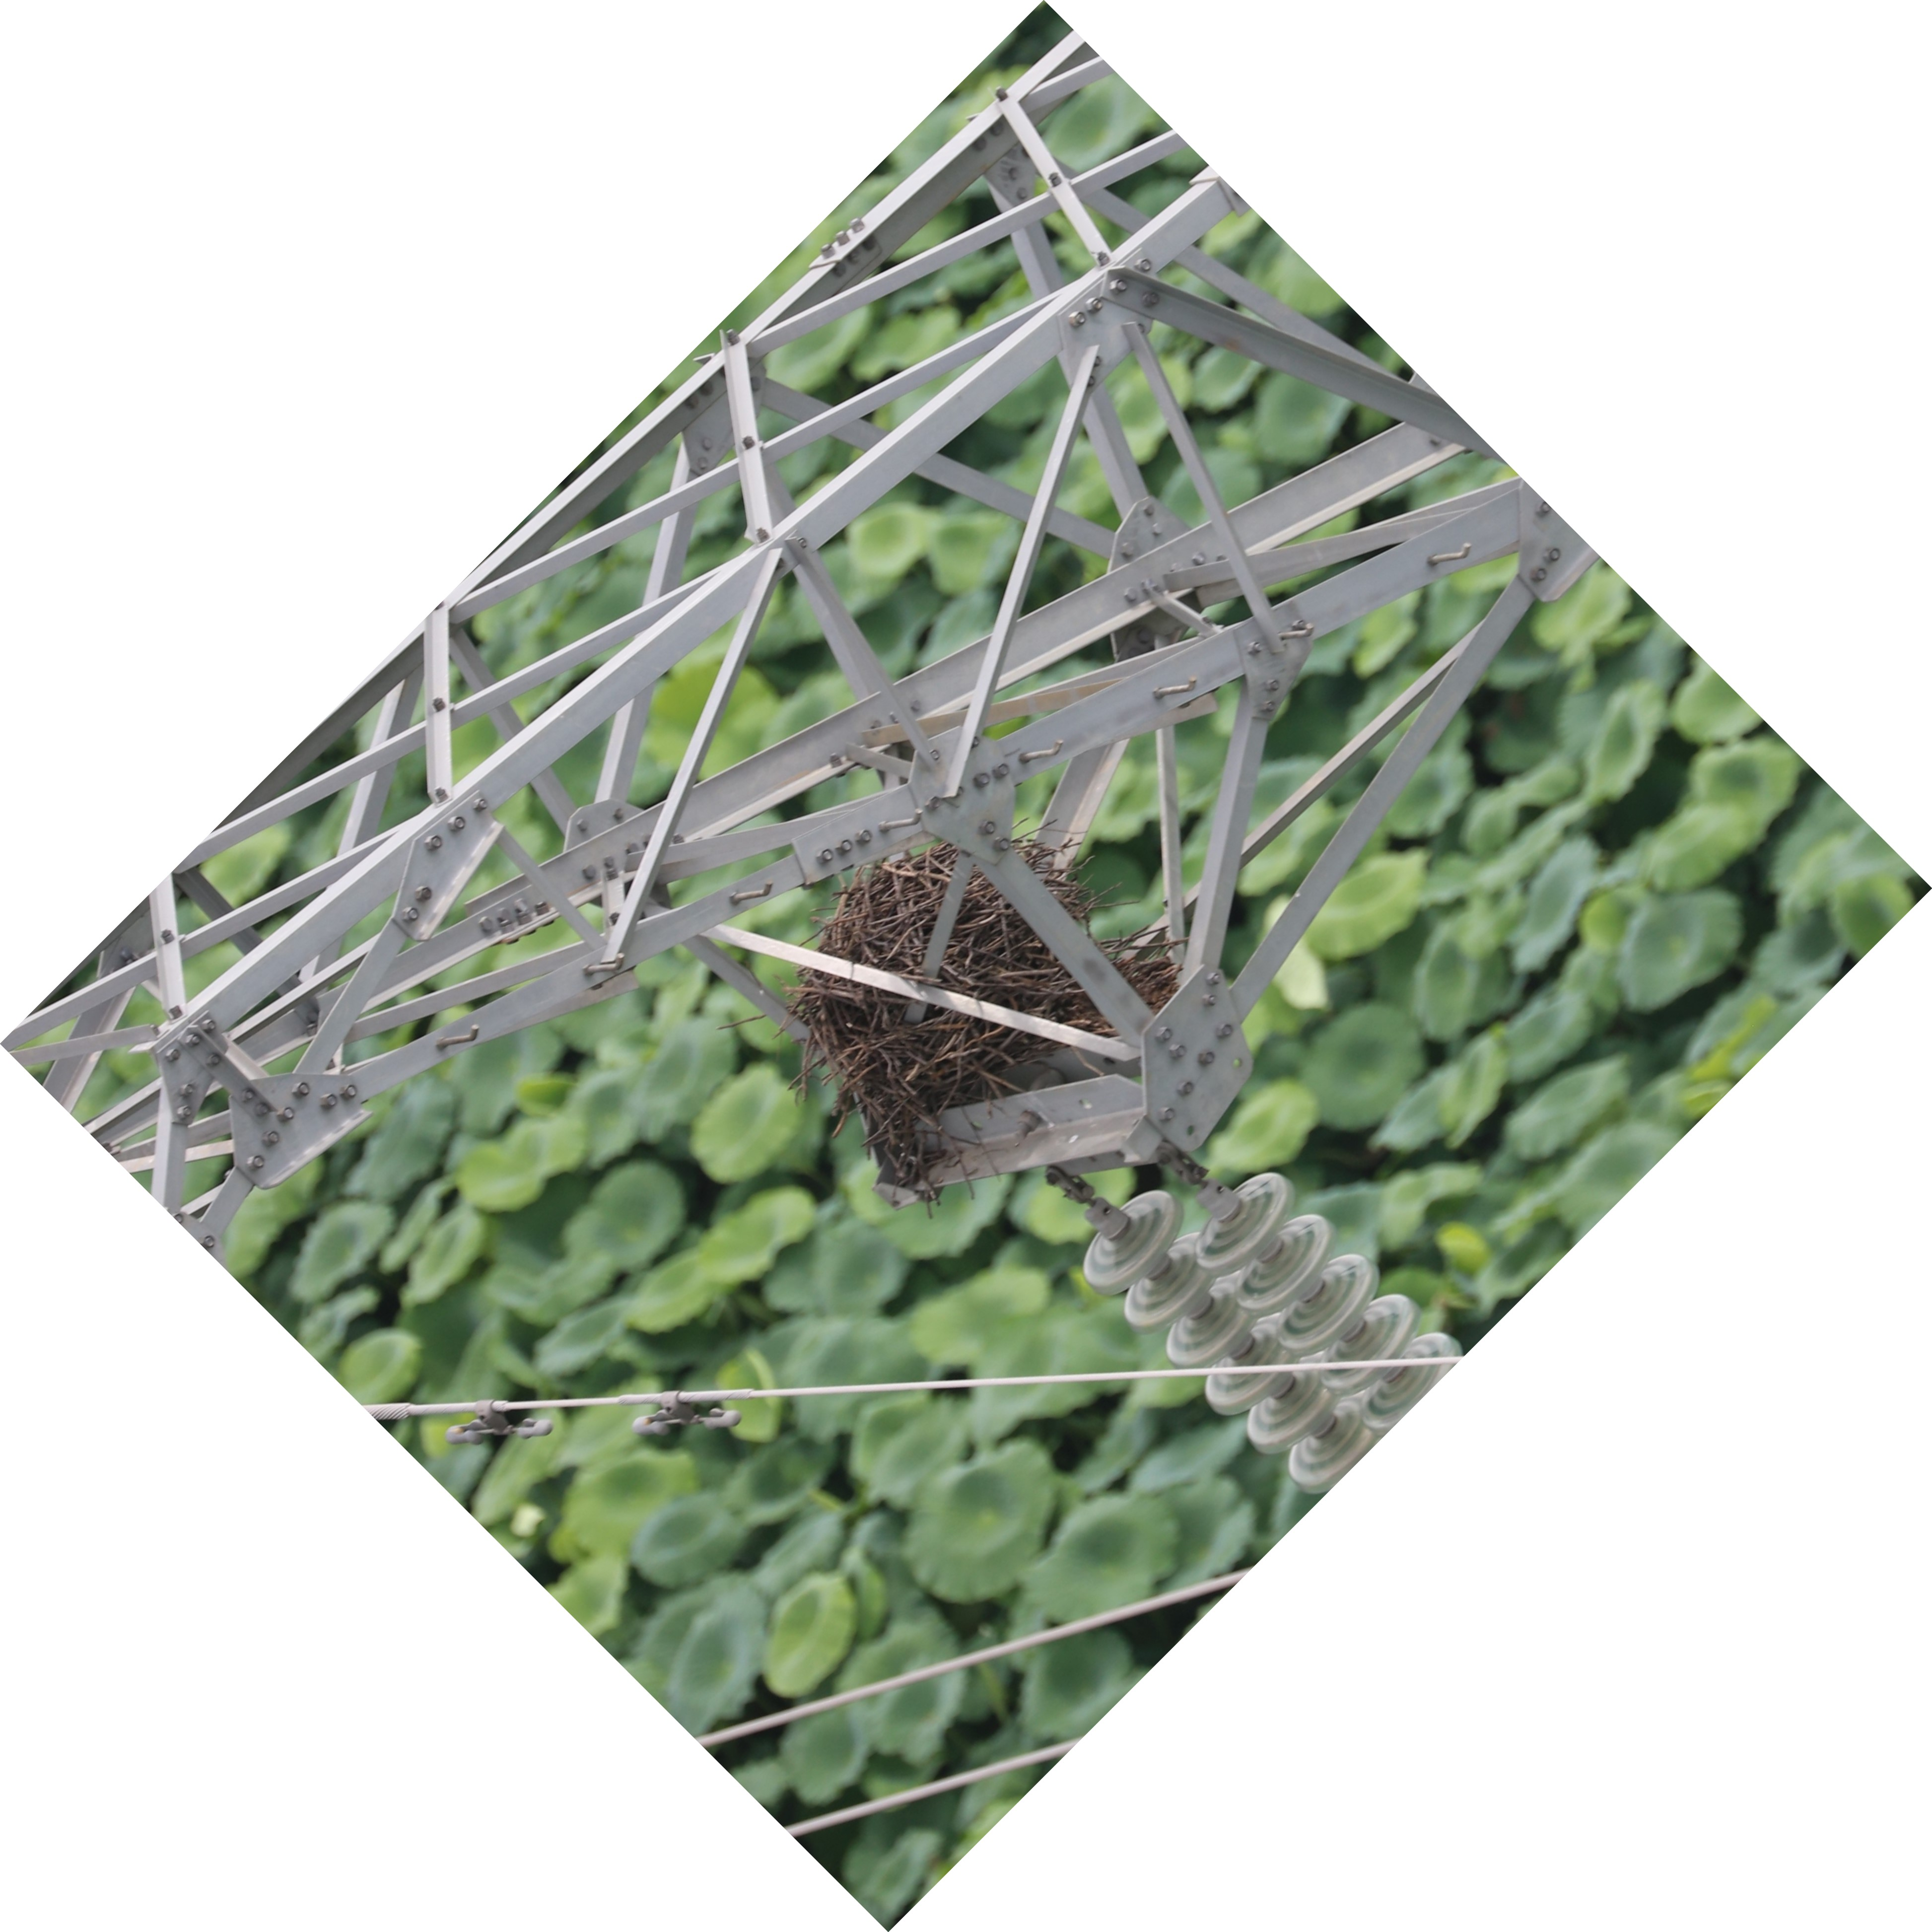niaowo: (761, 782, 1180, 1201)
